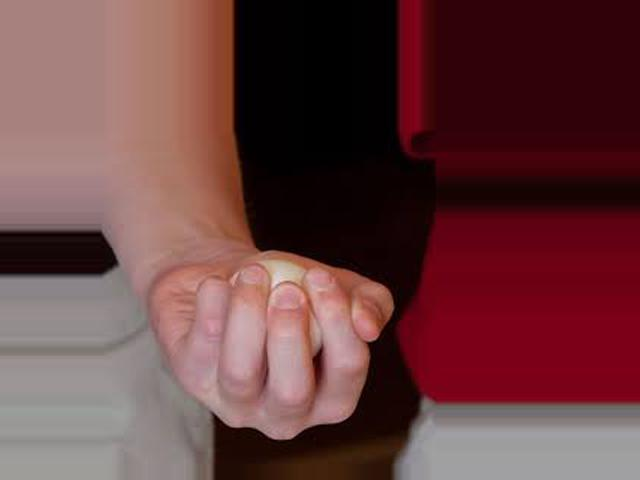egg: (229, 258, 334, 359)
